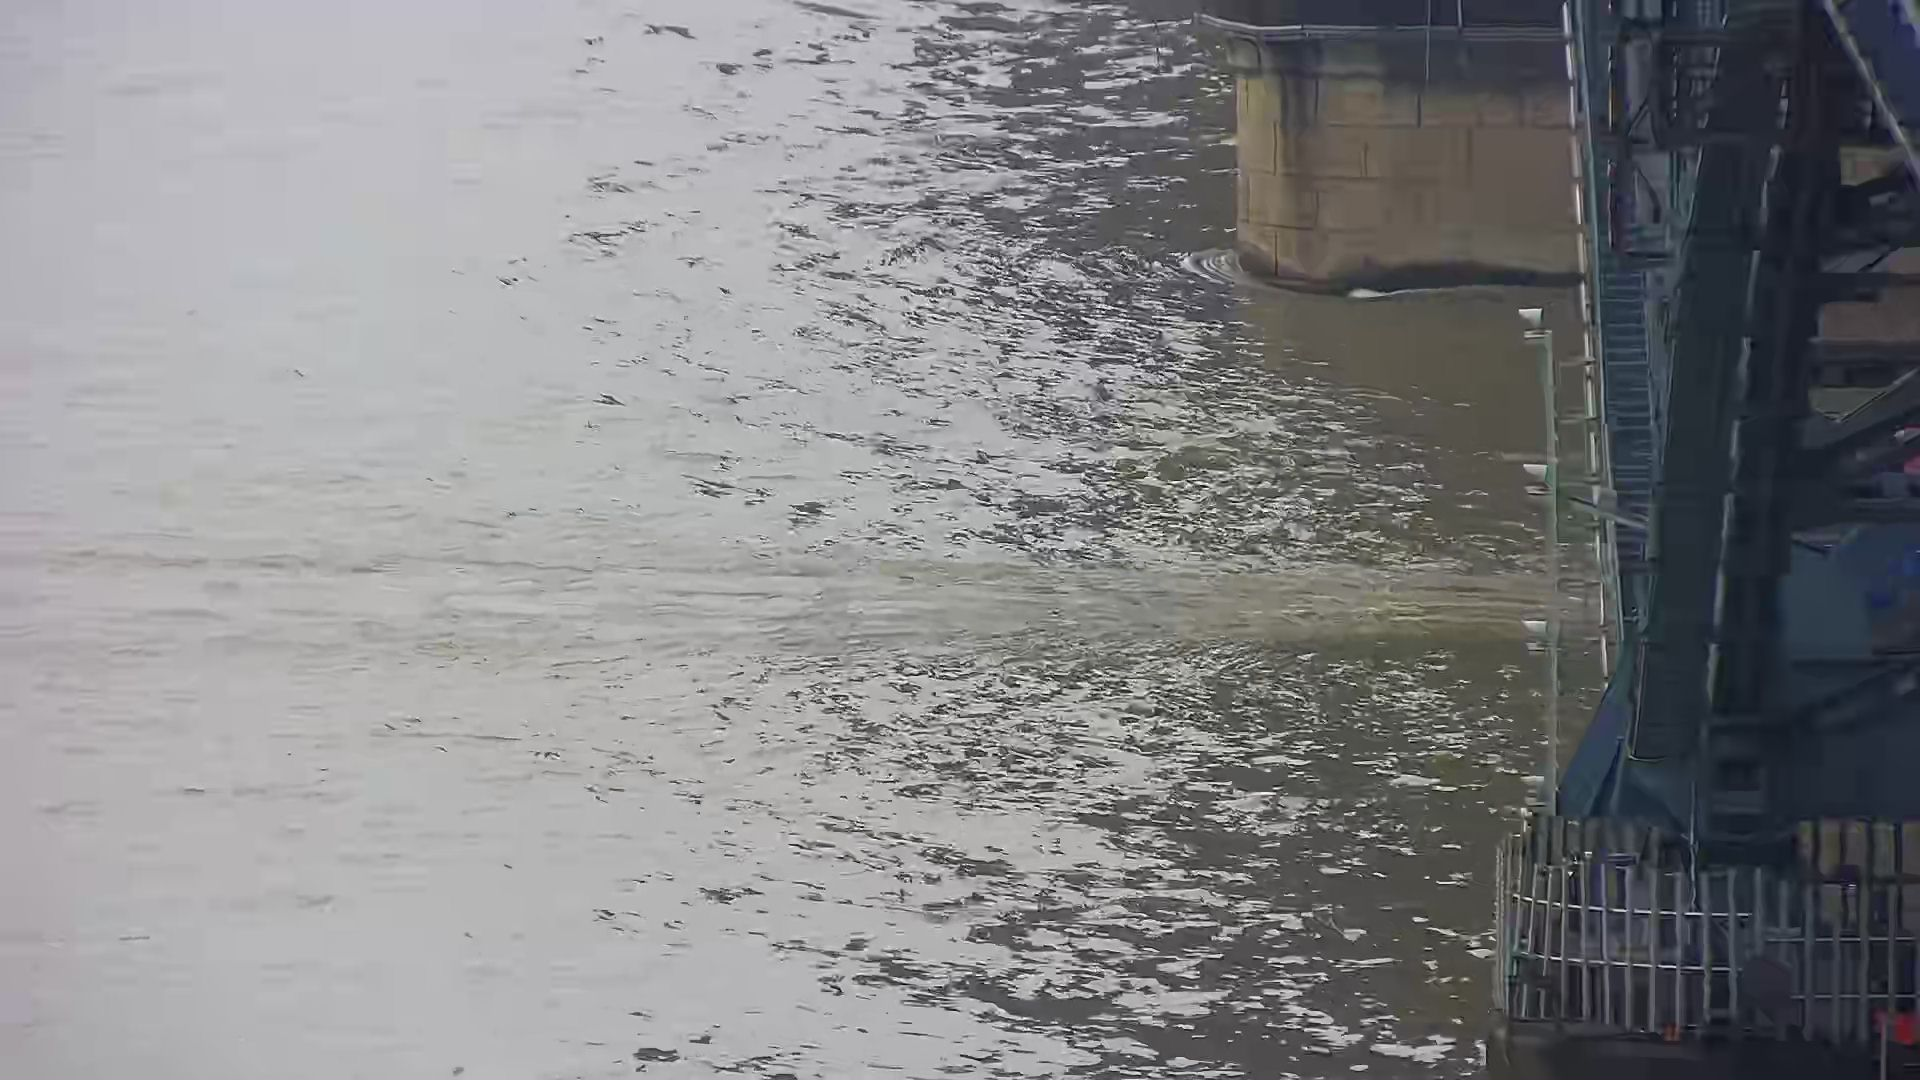bridge: (1466, 5, 1920, 1080), (1178, 11, 1601, 294)
